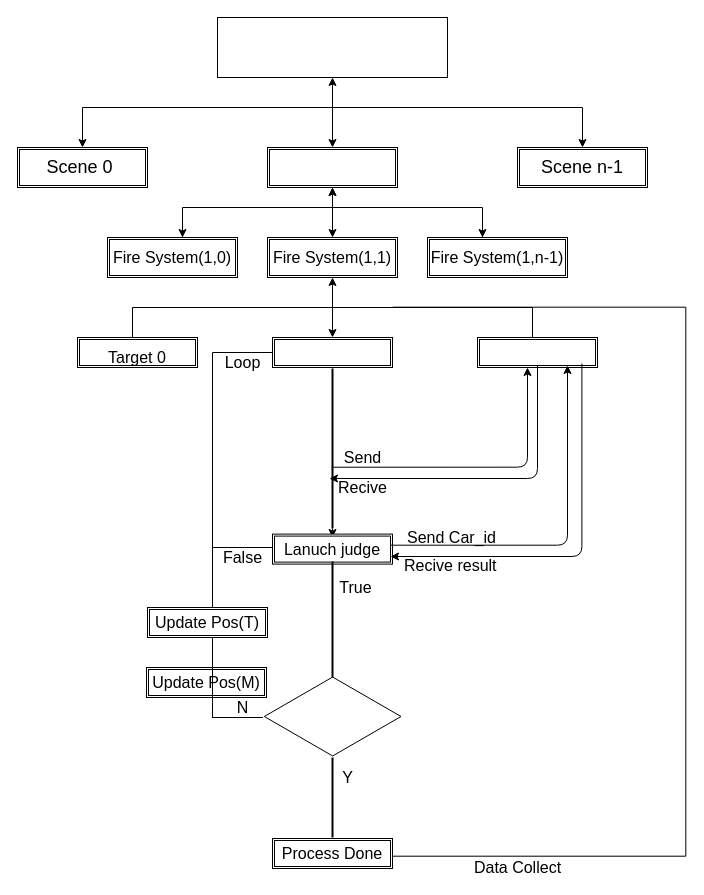
The diagram is 704 pixels wide and 895 high, and some of its shapes have lost their labels. The centre of each missing label's shape, as x and y in pixels:
"If T and M meet?" goes at (332,716).
"Lanuch Car(4)" goes at (537,352).
"parallel system" goes at (332,47).
"Scene 1" goes at (332,167).
"Target 1" goes at (332,352).
